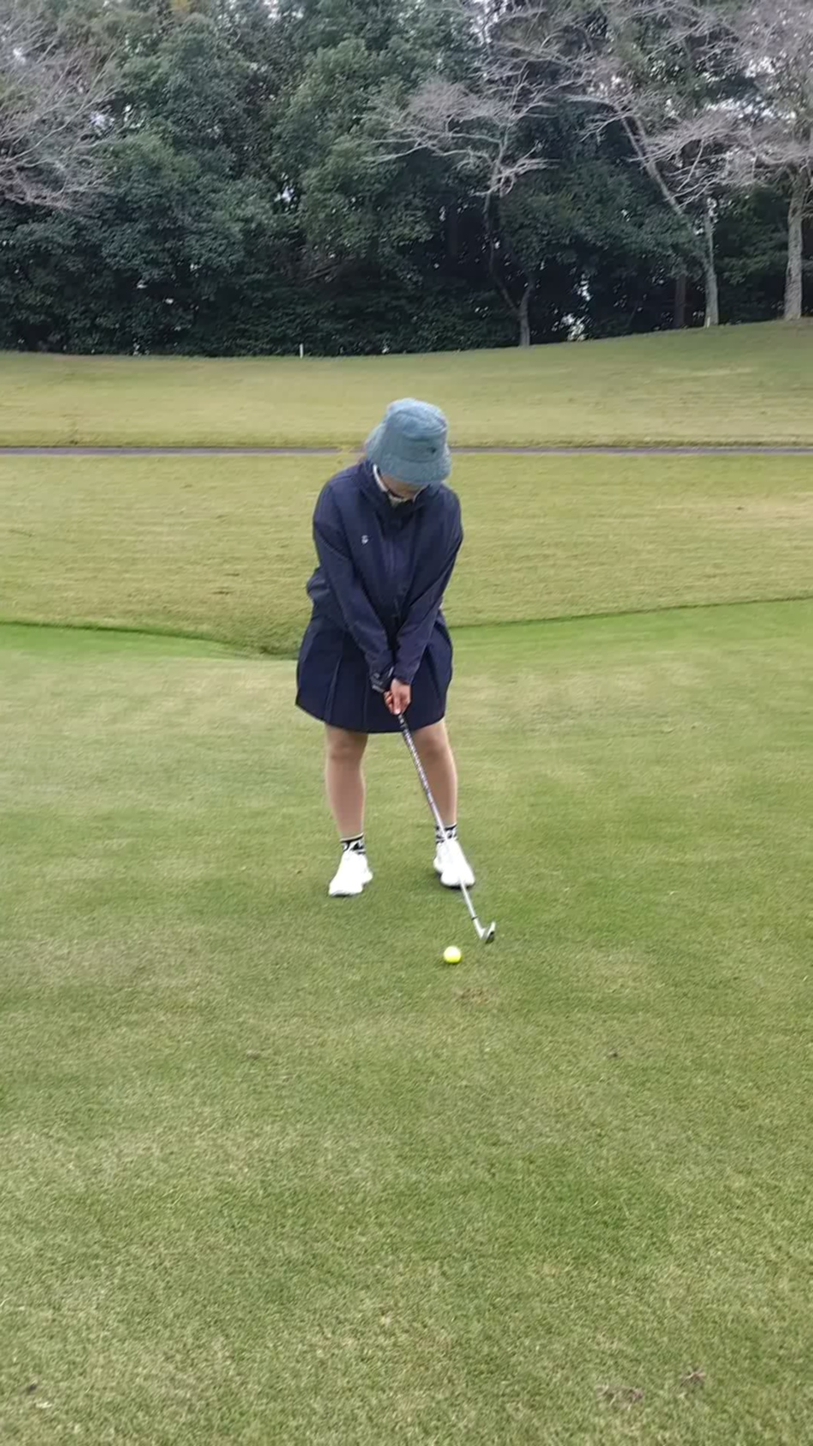clubhead: (416, 895, 587, 977)
